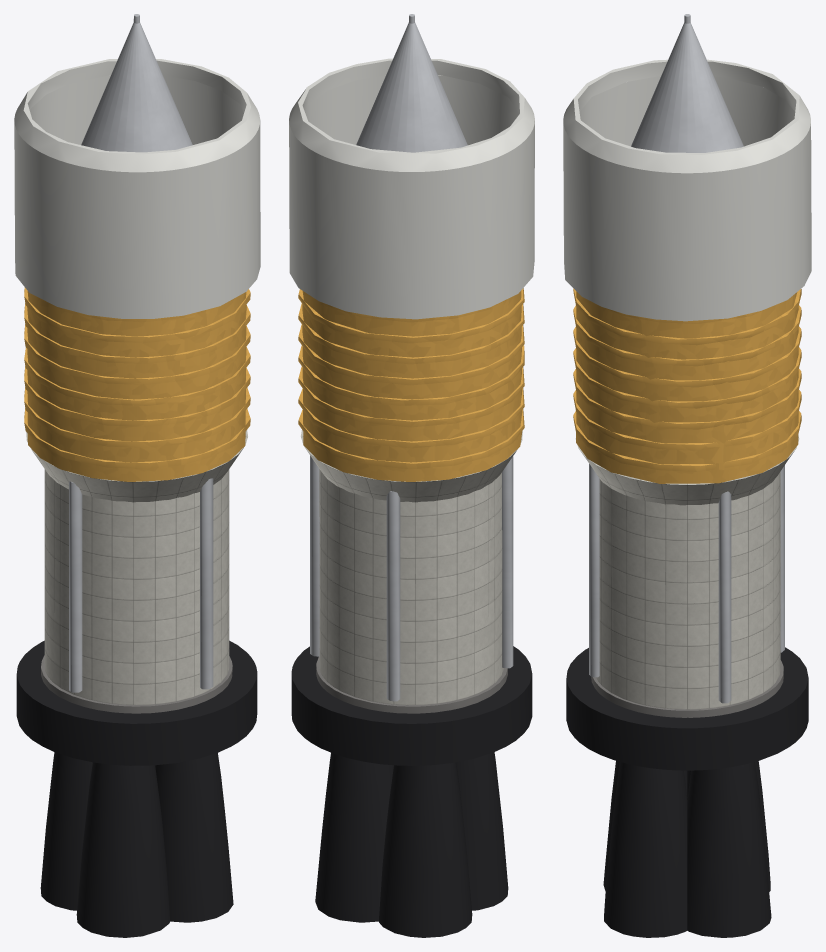
Rendered from jet12_precooled_combined_cycle_rocket.glb.
The picture shows the model from 3 angles, left to right: view 1: azimuth 30°, elevation 25°; view 2: azimuth 150°, elevation 25°; view 3: azimuth 270°, elevation 25°; orthographic projection.
Parts seen in each view (by area): view 1: cowl, precooler, core, rocket_nozzles, bypass_burners, spike, core_pipes, mount_ring; view 2: cowl, core, precooler, rocket_nozzles, bypass_burners, spike, core_pipes, mount_ring; view 3: cowl, core, precooler, rocket_nozzles, bypass_burners, spike, core_pipes, mount_ring.
Part boxes in pixels (x1,y1,x2,y2): cowl: (14,59,260,318); precooler: (24,287,250,481); core: (26,430,247,704); rocket_nozzles: (40,752,233,937); bypass_burners: (16,640,257,765); spike: (81,14,192,152); core_pipes: (69,478,213,692); mount_ring: (41,655,232,713); cowl: (289,58,534,319); core: (300,430,522,705); precooler: (298,288,524,481); rocket_nozzles: (315,752,508,937); bypass_burners: (291,646,532,765); spike: (356,14,467,152); core_pipes: (310,455,513,701); mount_ring: (316,656,507,713); cowl: (563,59,811,321); core: (575,434,799,709); precooler: (573,288,801,483); rocket_nozzles: (603,761,771,937); bypass_burners: (566,647,808,770); spike: (631,14,743,152); core_pipes: (589,463,784,703); mount_ring: (591,660,783,717).
Bounding box in the file's own units: 1.6 × 6.3 × 1.6.
Materials: 6 (4 with a texture image).
